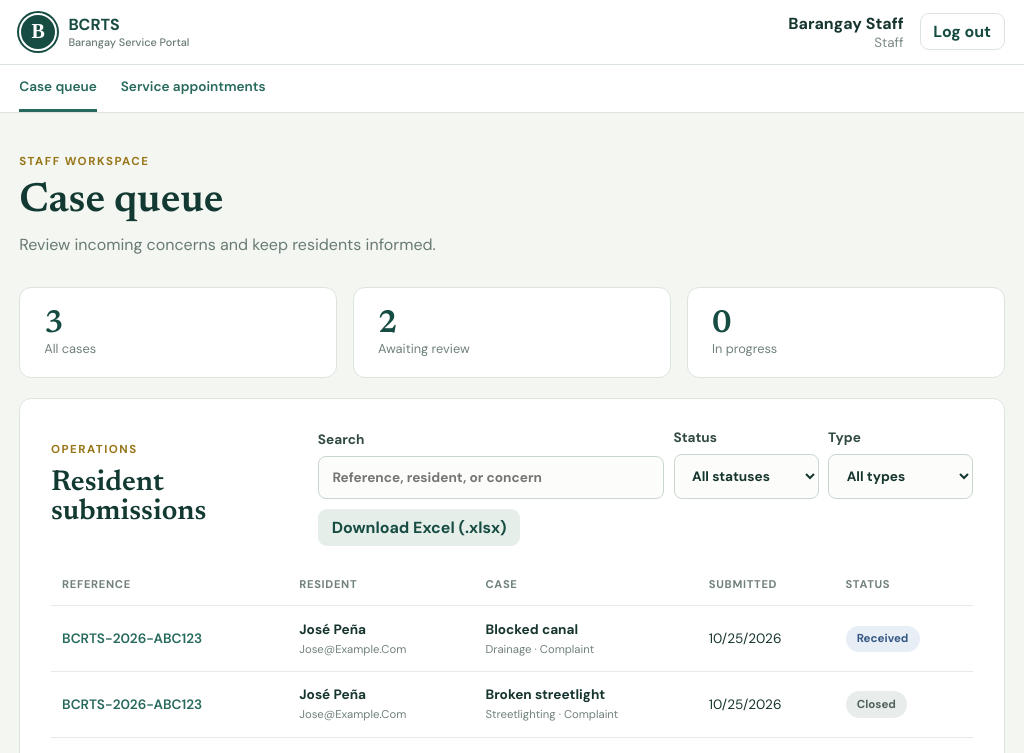
Test: staff Excel download › shows progress and blocks repeated clicks until generation finishes
Expected: the text "Broken streetlight" is shown, [486,686,605,703]
Click the button "Download Excel (.xlsx)" at (419, 528), box [318,509,520,546]
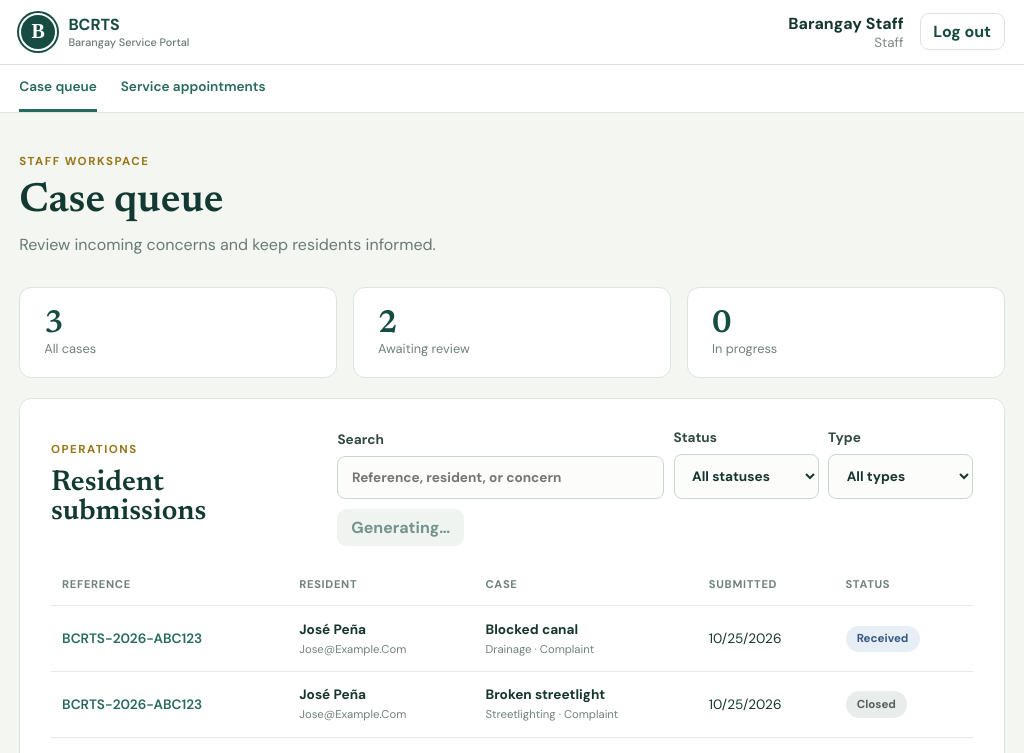
Now the button "Generating…" is disabled
Click the button "Generating…" at (401, 528), box [337,509,464,546]
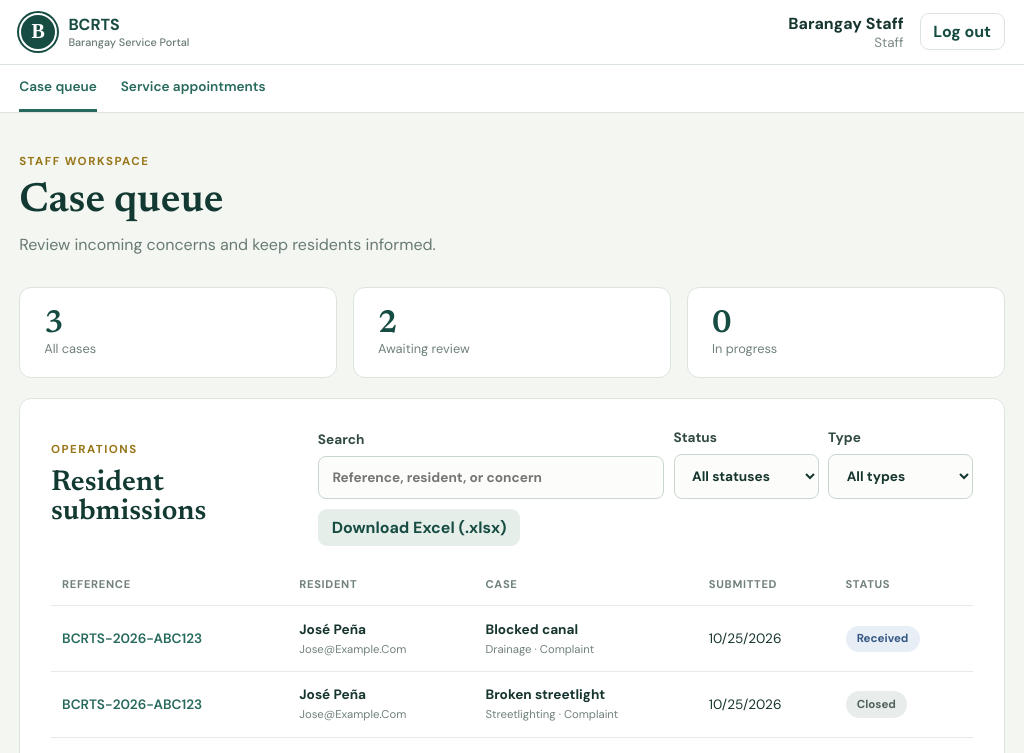
Now the button "Download Excel (.xlsx)" is enabled, box [318,509,520,546]
